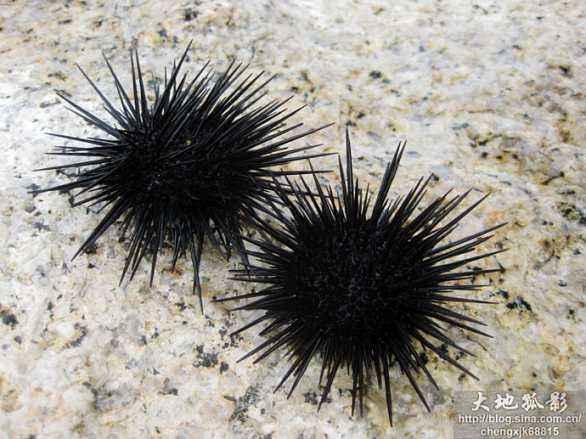urchin: (225, 142, 506, 406), (34, 40, 322, 283)
